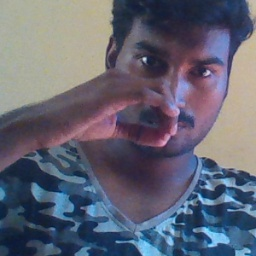O: (40, 69, 176, 159)
